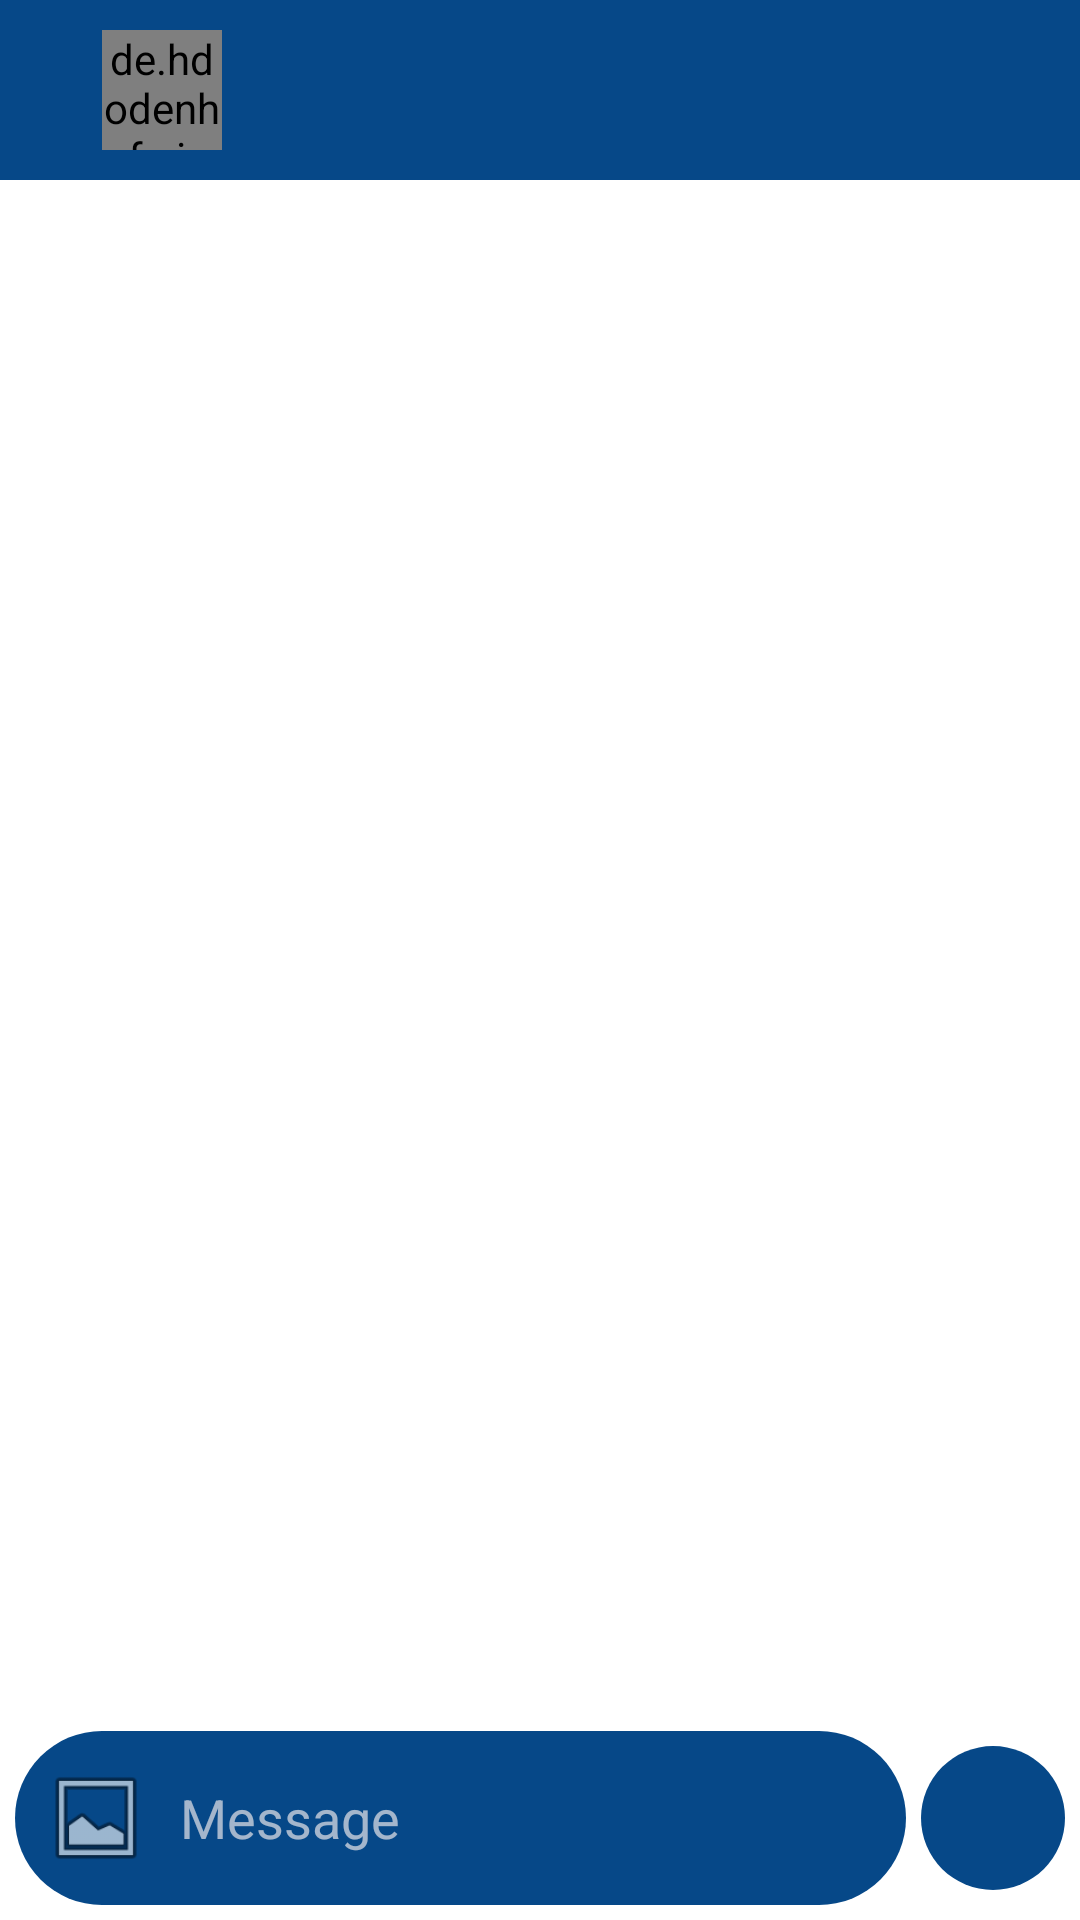

Point at icon controls on the screen. Image size 1080px x 1920px, points as point (x, y).
gallery: point (96, 1818)
